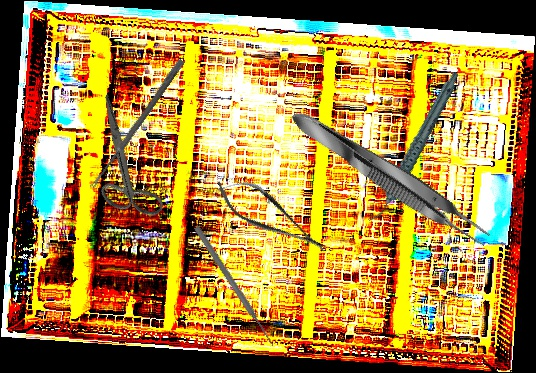Handpiece: (341, 70, 487, 226)
Iris Scissors: (53, 93, 195, 234)
Micro Scissor: (206, 165, 337, 268)
Pusher: (192, 224, 277, 349)
Surgical Spoon: (88, 57, 186, 191)
Tissue Forceps: (284, 100, 497, 255)
